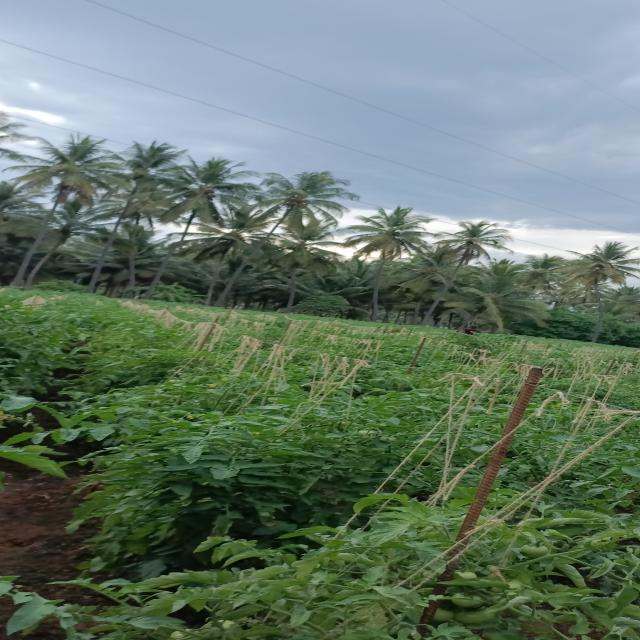Healthy Leaf: (212, 467, 241, 483), (183, 447, 211, 463)
